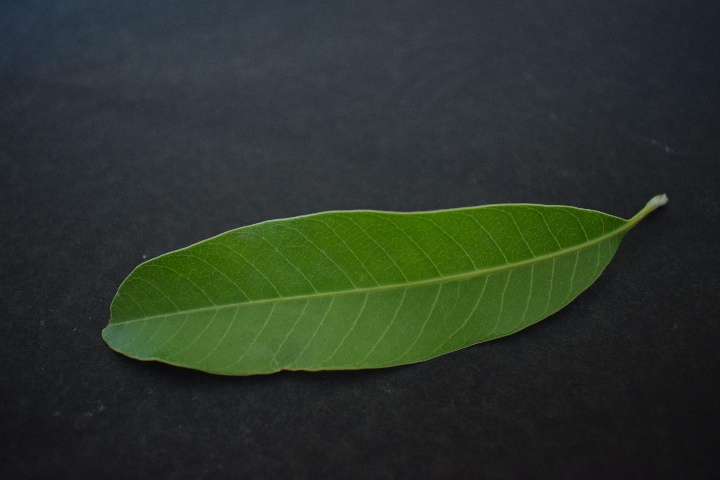healthy: (81, 191, 659, 378)
